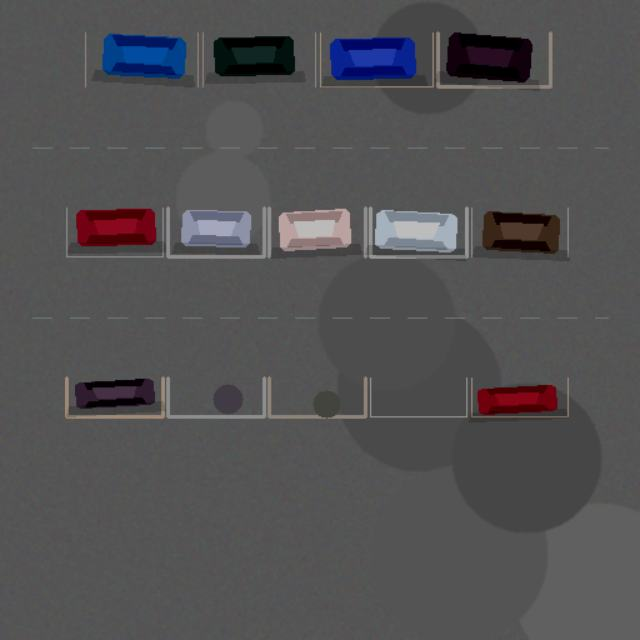space-empty: (167, 377, 264, 416), (269, 377, 365, 416), (370, 377, 466, 416)
space-occupied: (320, 32, 433, 86), (437, 32, 550, 86), (85, 32, 197, 86), (203, 32, 315, 86), (66, 208, 163, 256), (167, 208, 264, 256), (269, 208, 365, 256), (370, 208, 466, 256), (471, 208, 567, 256), (66, 377, 163, 416), (471, 377, 567, 416)
